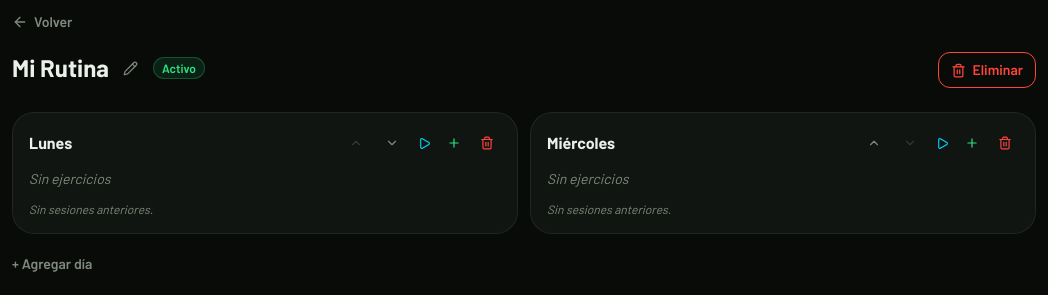
add training day (day chip picker) › POSTs /workouts/w1/training-days with { day_of_week: "FRIDAY" } and closes picker on success
Expected: the heading "Mi Rutina" is shown, [12, 52, 109, 84]
Click the button "+ Agregar día" at (52, 264), box [12, 250, 92, 278]
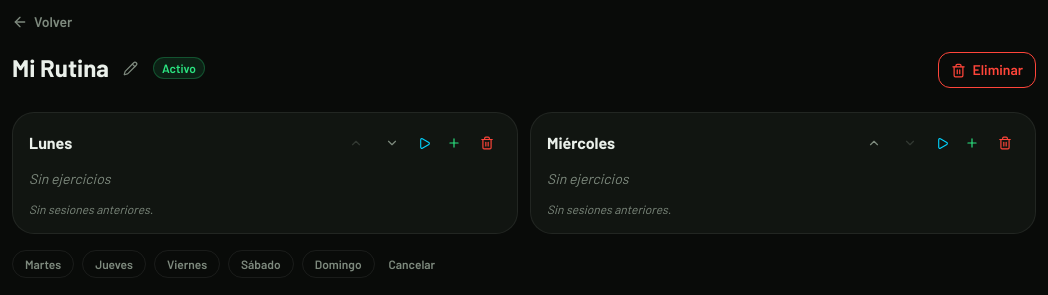
Click the button "Viernes" at (187, 264), box [154, 250, 220, 278]
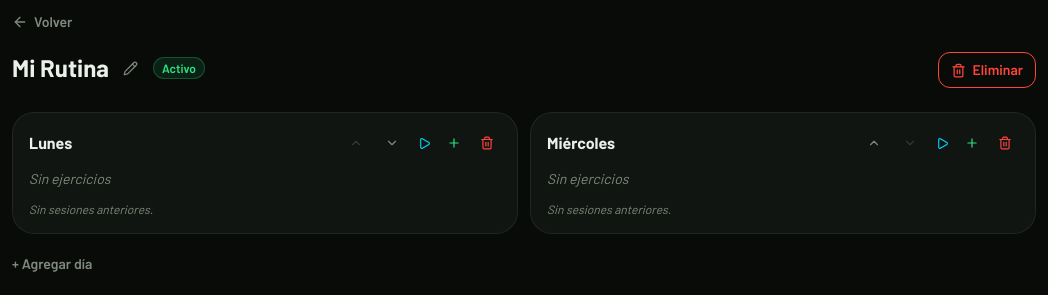
Now the button "Viernes" is gone
